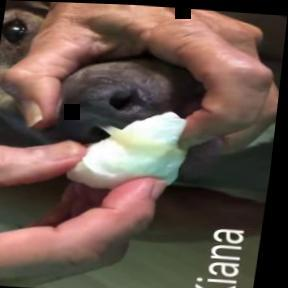nasal_discharge: (76, 109, 168, 161)
